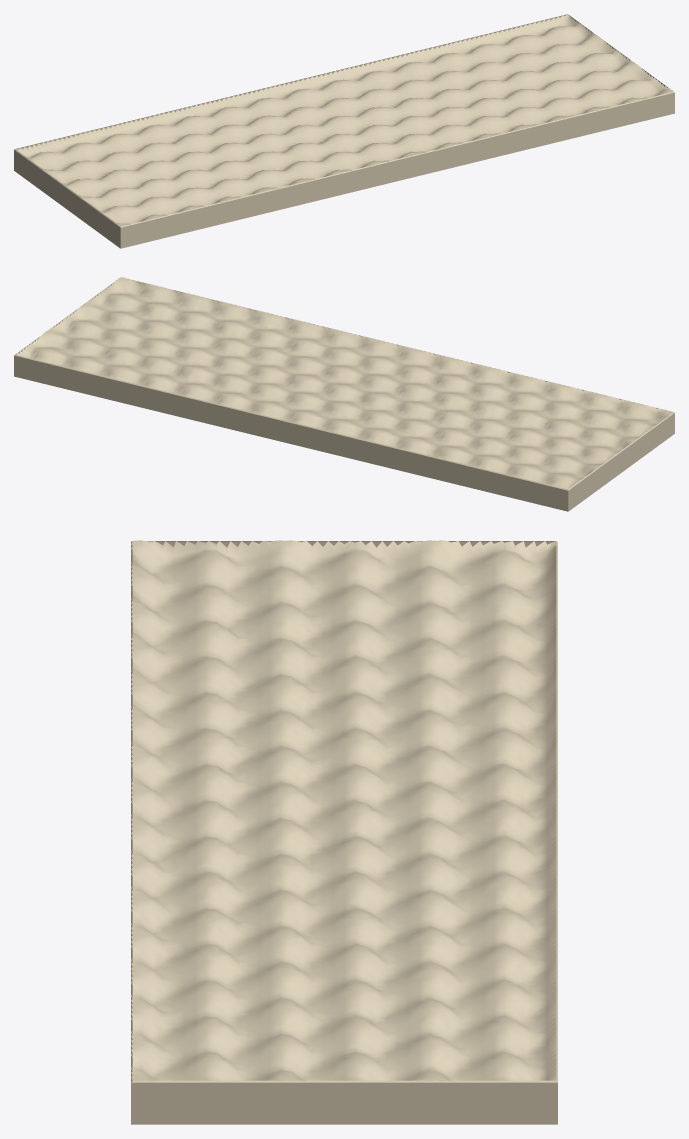
Rendered from mahsulot.glb.
3 renders of one model, top to bottom at view 1: azimuth 30°, elevation 25°; view 2: azimuth 150°, elevation 25°; view 3: azimuth 270°, elevation 25°, orthographic. The views are drawn at different scales.
Parts seen in each view (by area): view 1: mahsulot; view 2: mahsulot; view 3: mahsulot.
Part boxes in pixels (bbox=[...]): mahsulot: bbox=[14, 14, 674, 248]; mahsulot: bbox=[14, 277, 674, 511]; mahsulot: bbox=[131, 540, 557, 1124].
Bounding box in the file's own units: 1.2 × 0.045 × 0.4.
